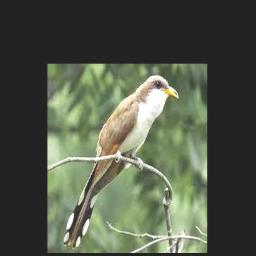Cuckoo: (63, 75, 178, 249)
